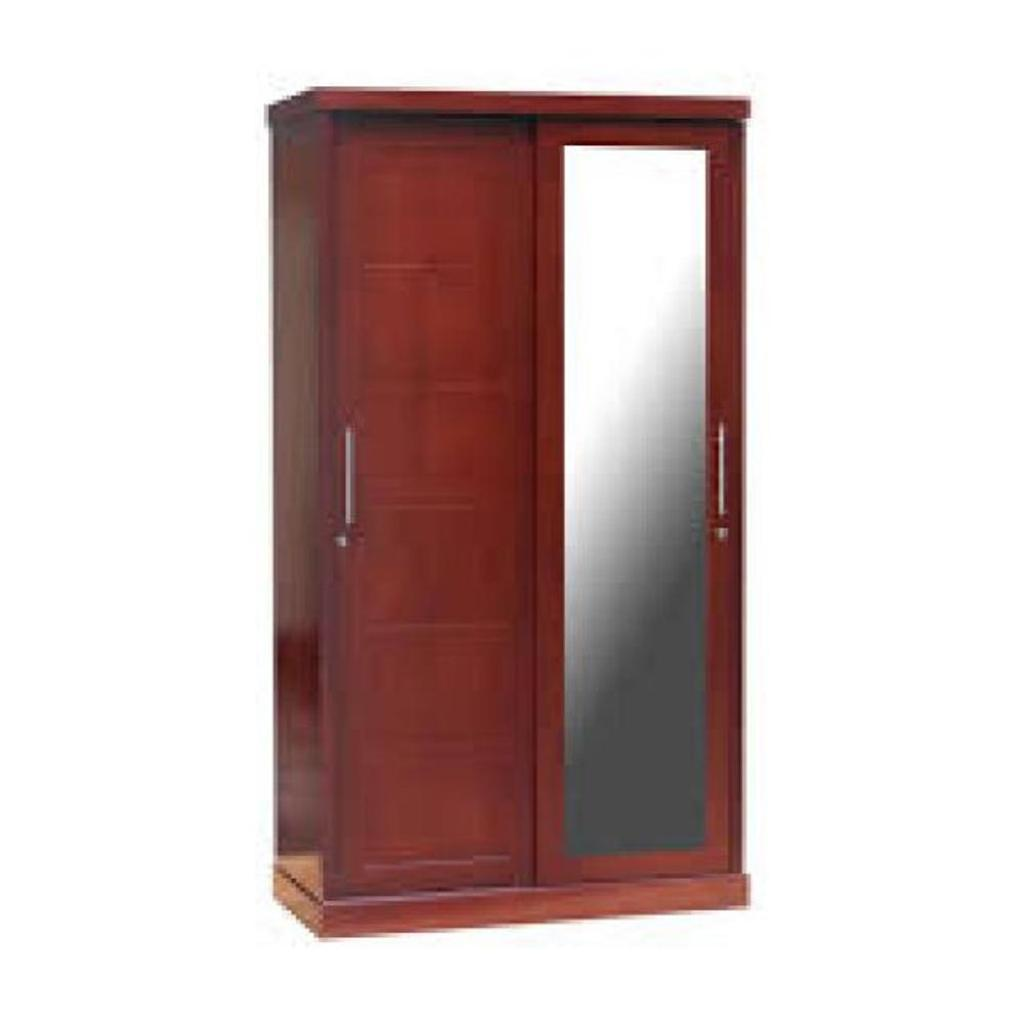cabinet: (263, 77, 751, 947)
